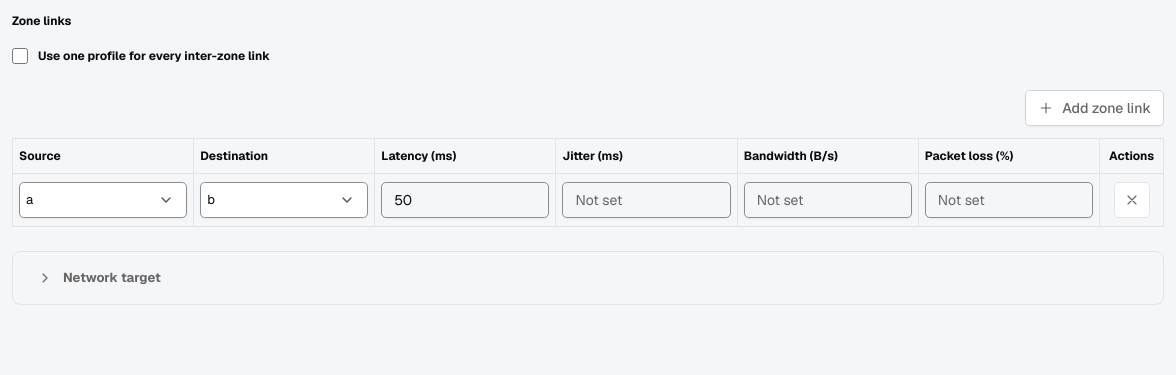
Test: adds unused directed pairs, prevents self-links and disables adding when all pairs exist
Click the button "Add zone link" at [1095, 108], box [1025, 90, 1164, 126]
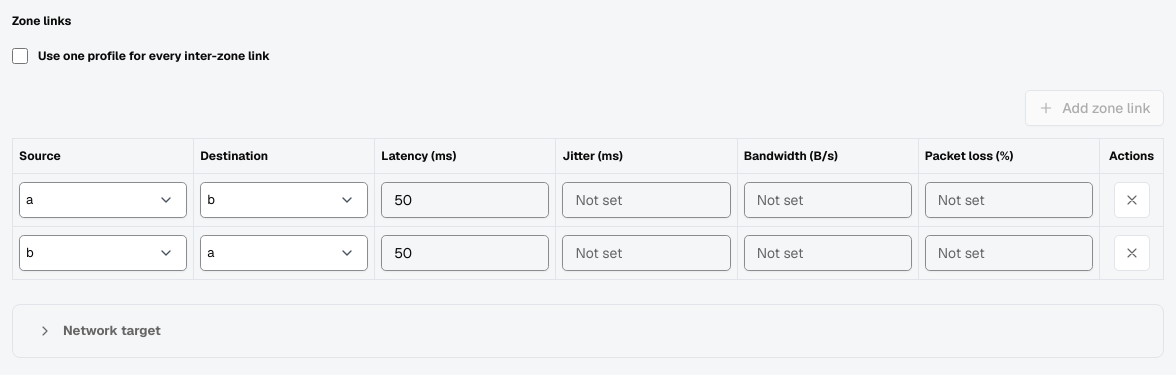
Now the button "Add zone link" is disabled, box [1025, 90, 1164, 126]
